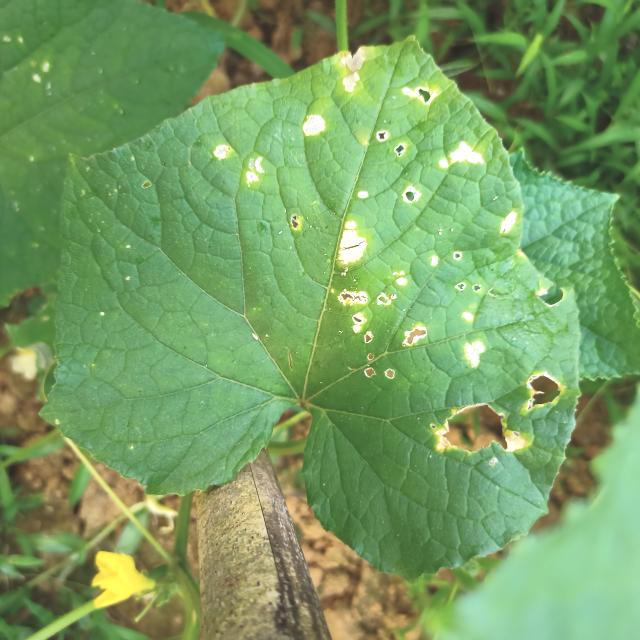disease_cucumber: (322, 267, 432, 382), (422, 402, 532, 462), (324, 214, 376, 276), (204, 141, 266, 187), (427, 133, 489, 174), (518, 366, 567, 412), (336, 48, 371, 99), (369, 126, 408, 161), (460, 334, 491, 374), (486, 204, 521, 235), (404, 81, 441, 109), (299, 112, 329, 140), (401, 185, 426, 206)
